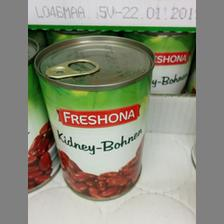Bohnen: (32, 34, 156, 202)
